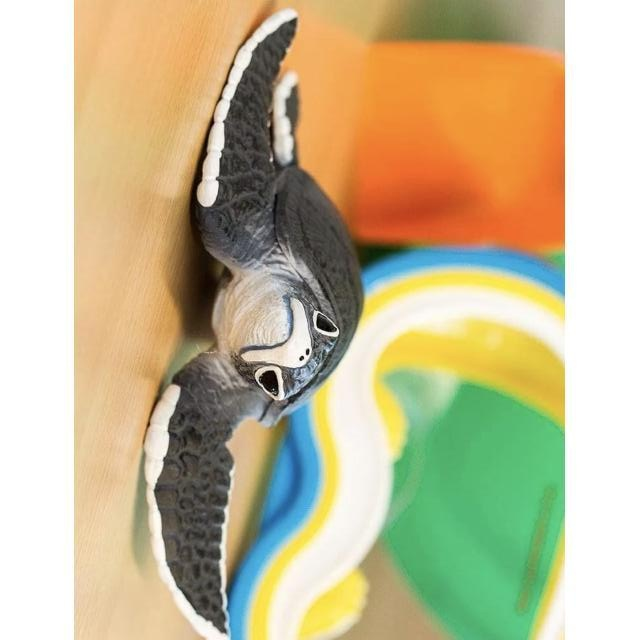turtle: (143, 9, 365, 639)
